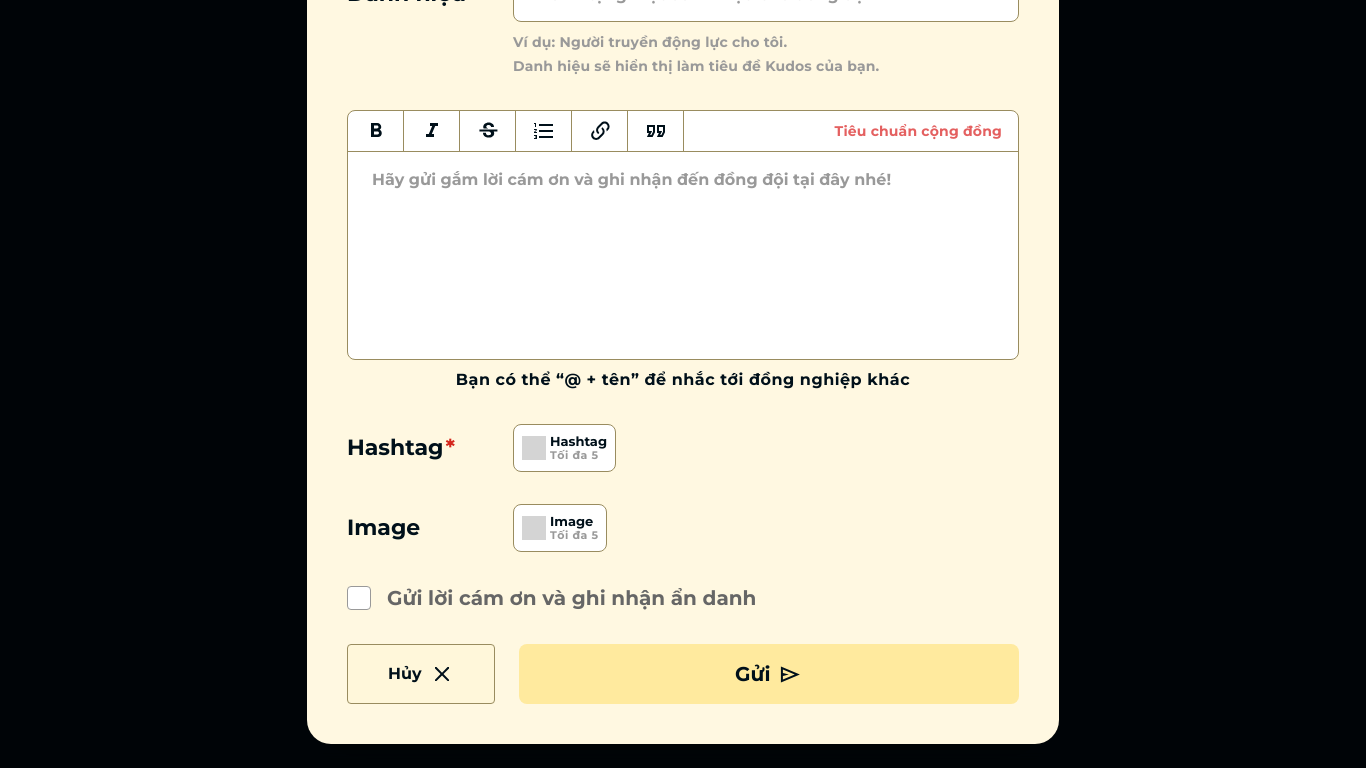
Scenario: WriteKudosModal › blocks submit and shows the required error when no recipient is chosen
This screenshot has width=1366, height=768.
(page scrolled)
Click the button "Gửi". click: (769, 674)
box: [518,644,1019,704]
(page scrolled)
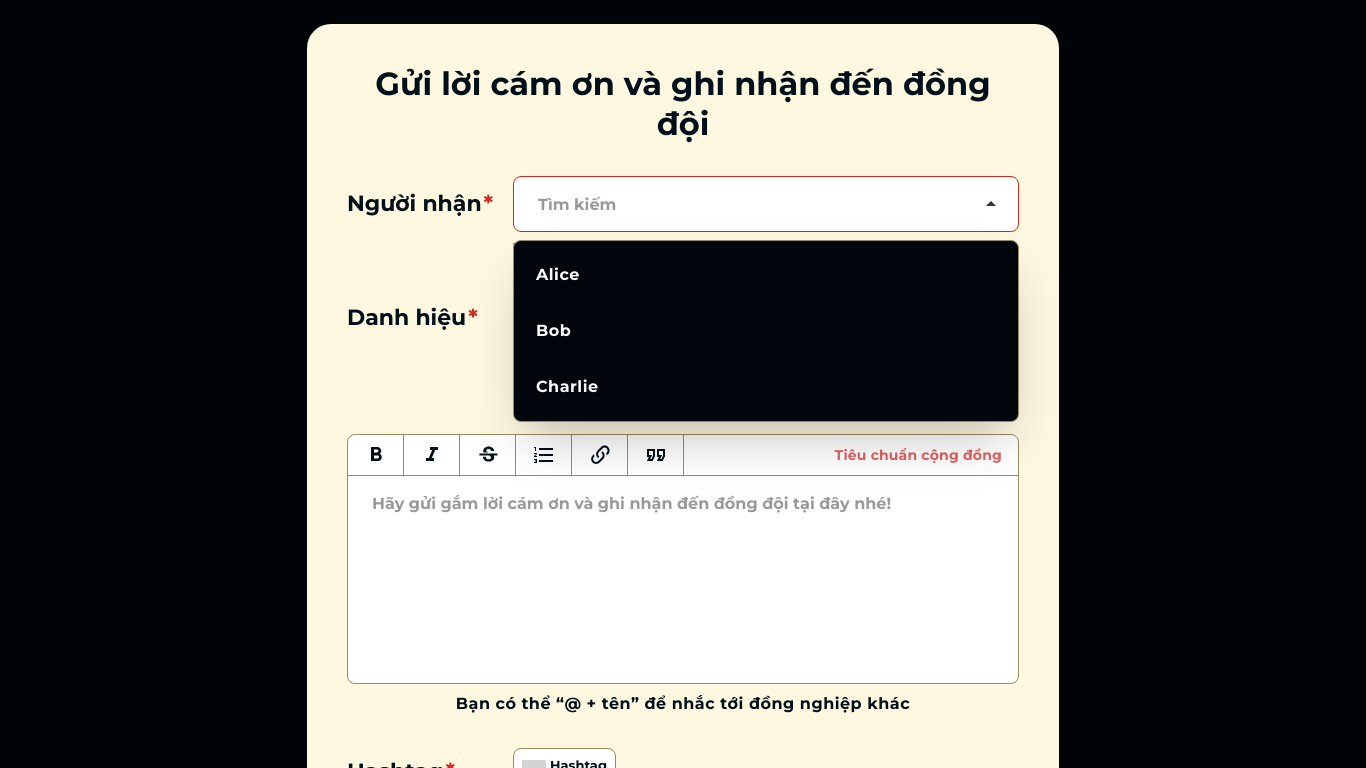
Now the text "Vui lòng chọn người nhận" is shown, box [513,239,700,257]
